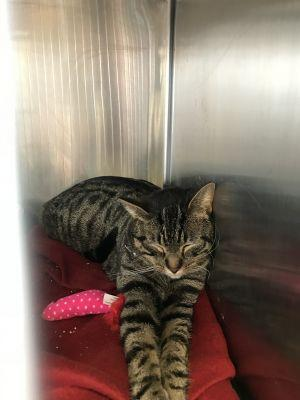bengal: (113, 178, 229, 293)
